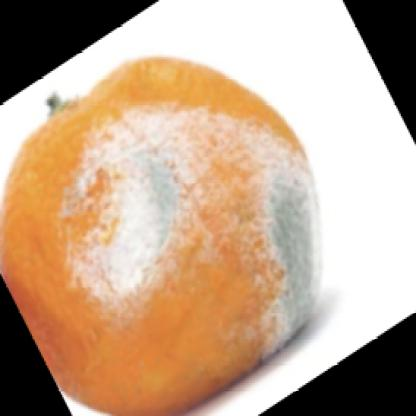rotten_orange: (1, 36, 326, 415)
